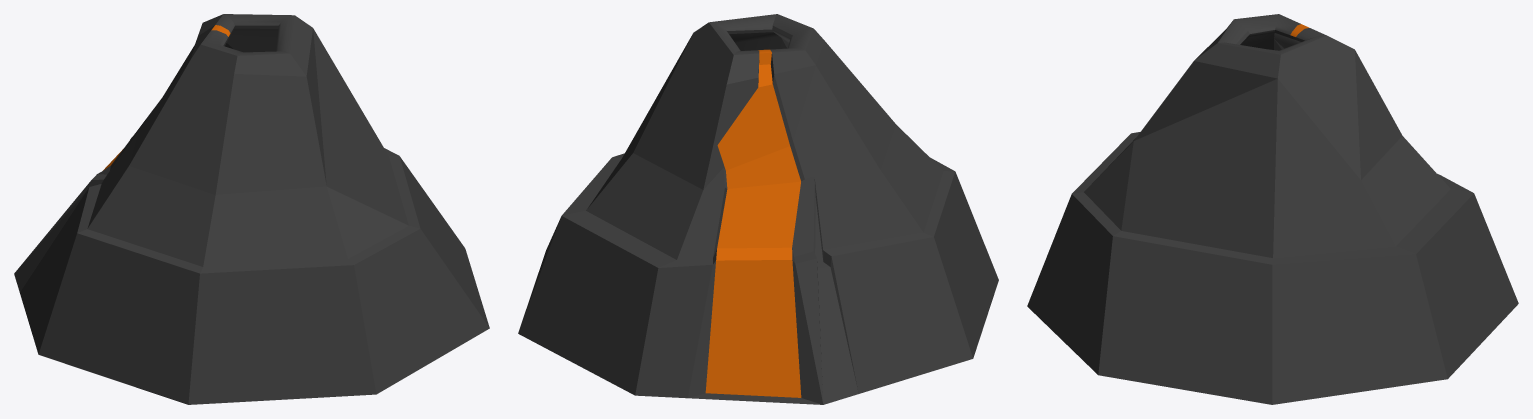
Rendered from volcano_01.fbx.
The picture shows the model from 3 angles, left to right: view 1: azimuth 30°, elevation 25°; view 2: azimuth 150°, elevation 25°; view 3: azimuth 270°, elevation 25°; orthographic projection.
Parts seen in each view (by area): view 1: pCone1; view 2: pCone1; view 3: pCone1.
Boxes of the visible parts, x1,y1,x2,y2 form: pCone1: [14, 14, 489, 404]; pCone1: [518, 14, 998, 404]; pCone1: [1027, 14, 1518, 404].
Size of the model in its own units: 17.4 by 10.74 by 17.48.
